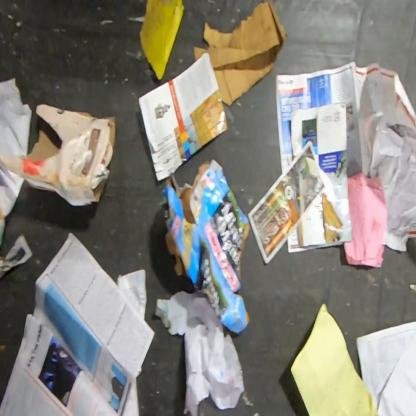cardboard: (162, 157, 252, 336), (0, 104, 116, 207), (138, 52, 228, 182), (322, 192, 343, 242)
